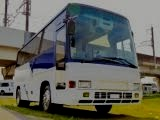bus: (10, 4, 141, 116)
